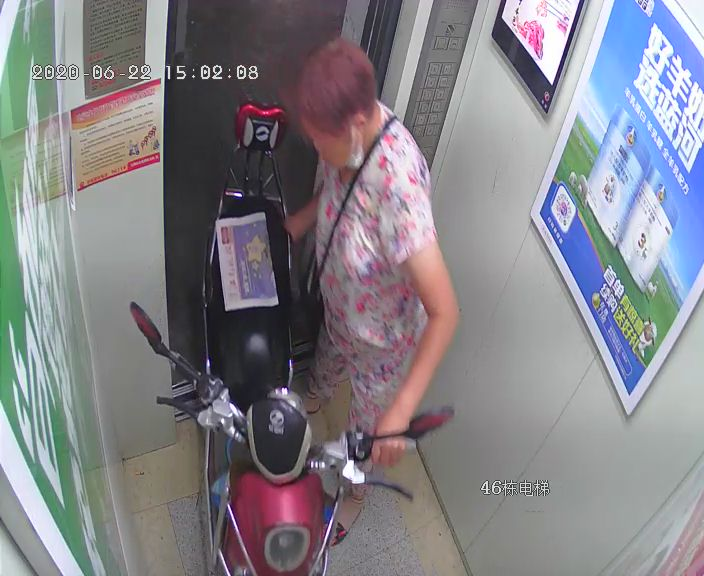Electric-bicycle: (131, 101, 451, 574)
